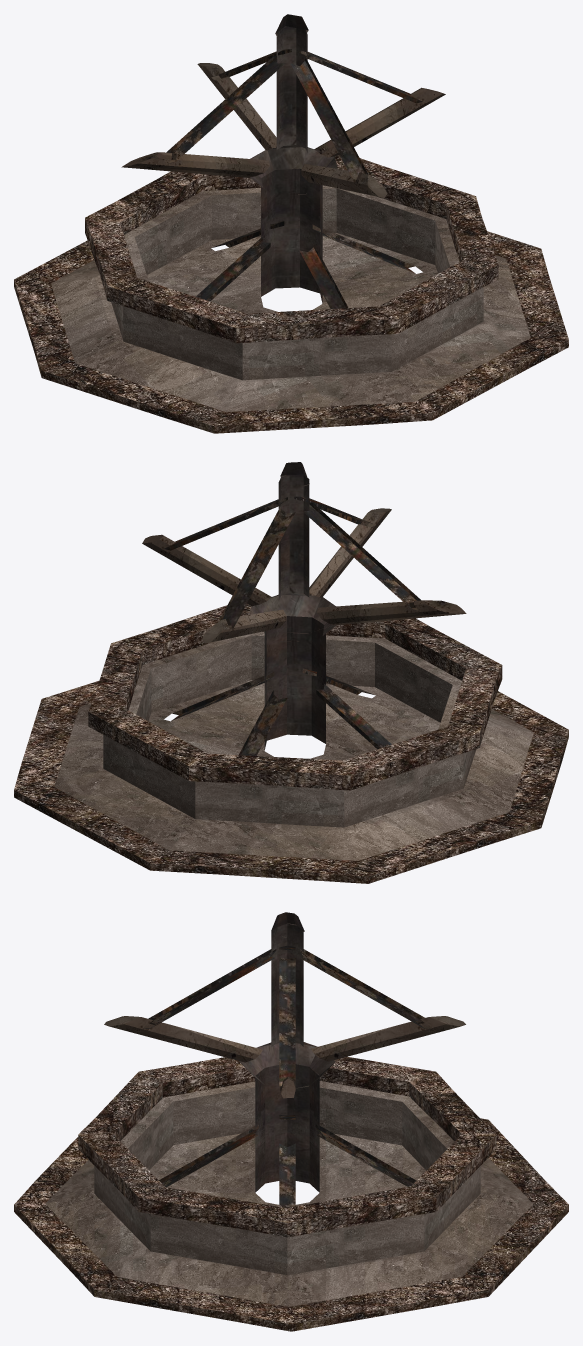
The model's file is architecture_fountain1.glb.
3 renders of one model, top to bottom at view 1: azimuth 30°, elevation 25°; view 2: azimuth 150°, elevation 25°; view 3: azimuth 270°, elevation 25°, orthographic.
Visible parts, largest first — view 1: fountain1; view 2: fountain1; view 3: fountain1.
Part boxes in pixels (x1,y1,x2,y2): fountain1: (14,14,568,433); fountain1: (14,462,568,883); fountain1: (14,912,568,1331).
Bounding box in the file's own units: 8.81 × 5.06 × 8.63.
Materials: 5 (5 with a texture image).
